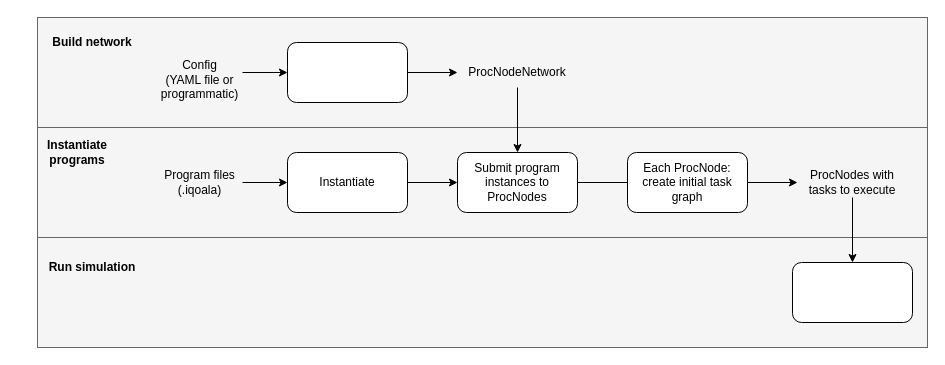
Image size: 945x365. Some labels were removed from this diagram. Each missing label, with the centre of its shape:
Build: the point at 347,72
Run NetSquid simulation (start all Protocols): the point at 852,292
